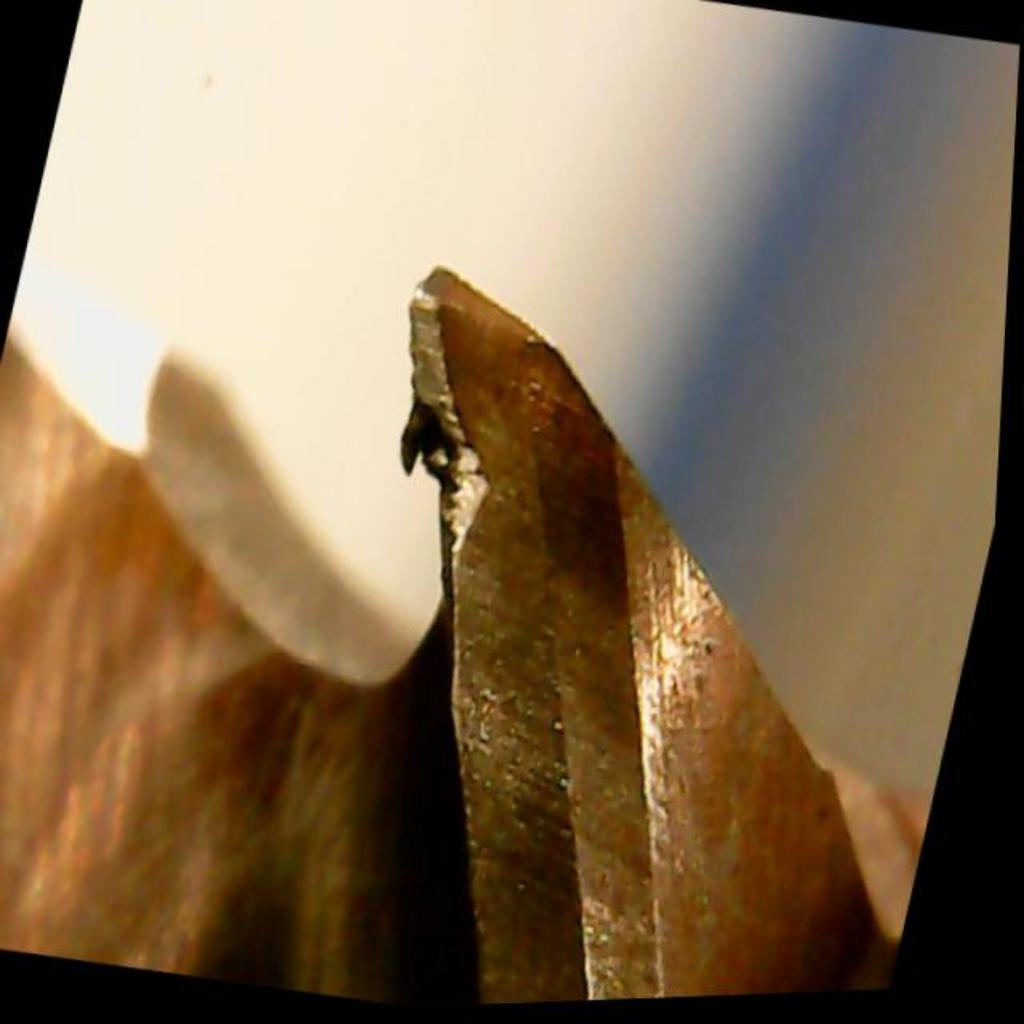Tool-wear-class-2: (268, 208, 722, 785)
